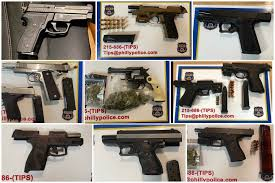gun: (16, 3, 97, 59), (100, 127, 184, 178), (197, 8, 273, 56), (12, 127, 87, 174), (191, 123, 257, 166), (13, 62, 74, 105), (128, 1, 189, 40), (106, 65, 167, 103), (220, 61, 274, 96)
